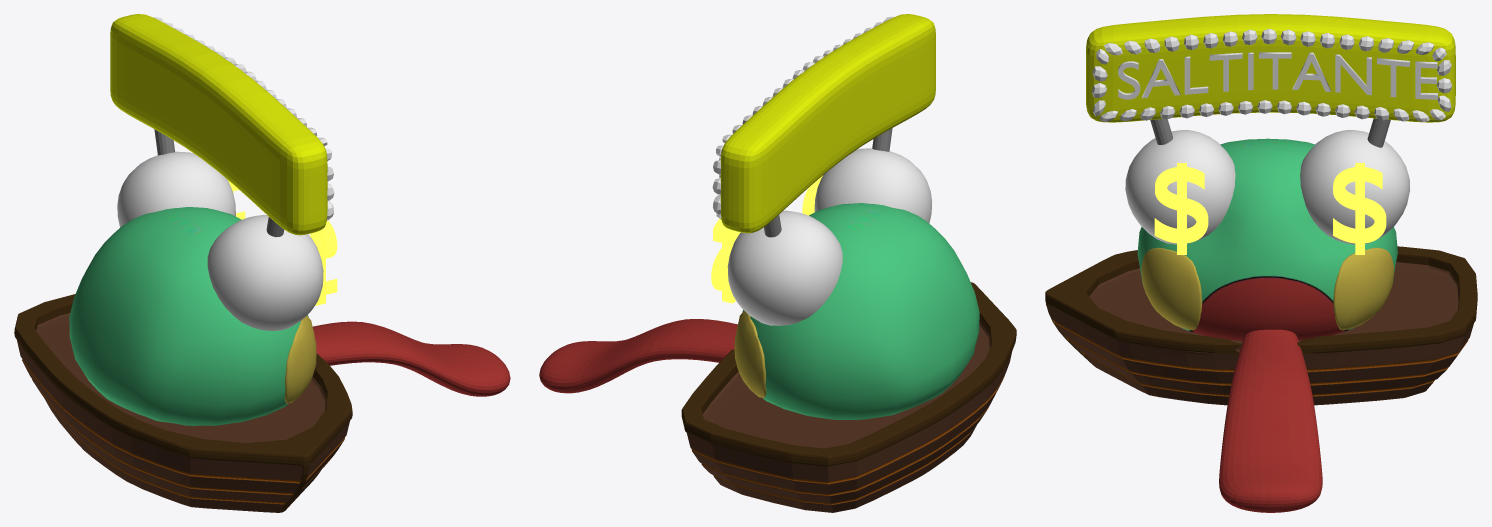
File: Barco.fbx
3 renders of one model, left to right at view 1: azimuth 30°, elevation 25°; view 2: azimuth 150°, elevation 25°; view 3: azimuth 270°, elevation 25°, orthographic. The views are drawn at different scales.
Parts seen in each view (by area): view 1: Cube.001, Cube, Cube.003, Cube.002, Text, Cube.004, Cylinder; view 2: Cube.001, Cube, Cube.003, Cube.002, Text, Cube.004, Cylinder; view 3: Cube.001, Cube, Cube.003, Cube.002, Cube.004, Text, Text.001, Cylinder.
Boxes of the visible parts, <box> form: Cube.001: <box>69,151,323,425</box>; Cube: <box>14,294,352,512</box>; Cube.003: <box>110,14,327,235</box>; Cube.002: <box>312,321,510,396</box>; Text: <box>228,180,337,305</box>; Cube.004: <box>154,17,334,221</box>; Cylinder: <box>154,129,284,237</box>; Cube.001: <box>727,148,979,419</box>; Cube: <box>681,282,1016,512</box>; Cube.003: <box>720,14,935,233</box>; Cube.002: <box>539,319,737,393</box>; Text: <box>711,175,822,303</box>; Cube.004: <box>712,16,893,219</box>; Cylinder: <box>764,128,892,237</box>; Cube.001: <box>1125,130,1409,340</box>; Cube: <box>1045,246,1477,405</box>; Cube.003: <box>1086,14,1455,122</box>; Cube.002: <box>1219,329,1322,512</box>; Cube.004: <box>1091,28,1452,122</box>; Text: <box>1154,163,1386,254</box>; Text.001: <box>1118,52,1437,99</box>; Cylinder: <box>1150,118,1390,147</box>.
Bounding box in the file's own units: 815 × 706 × 751.
12 materials, 1 textured.
